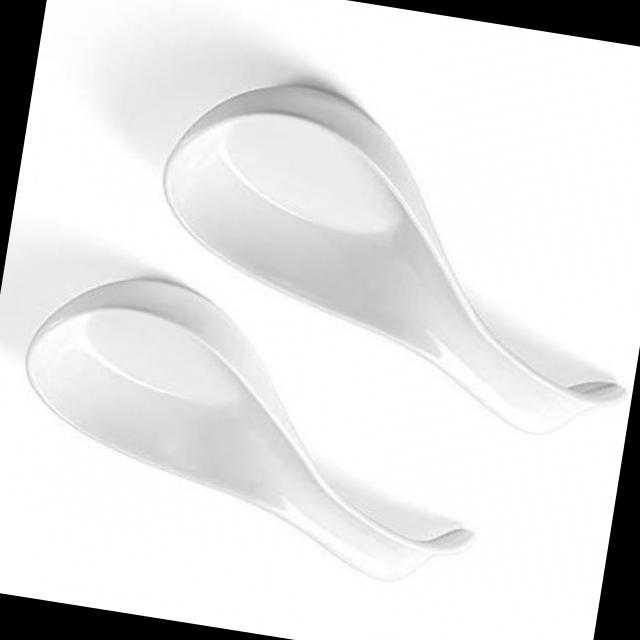spoon: (0, 254, 521, 597)
